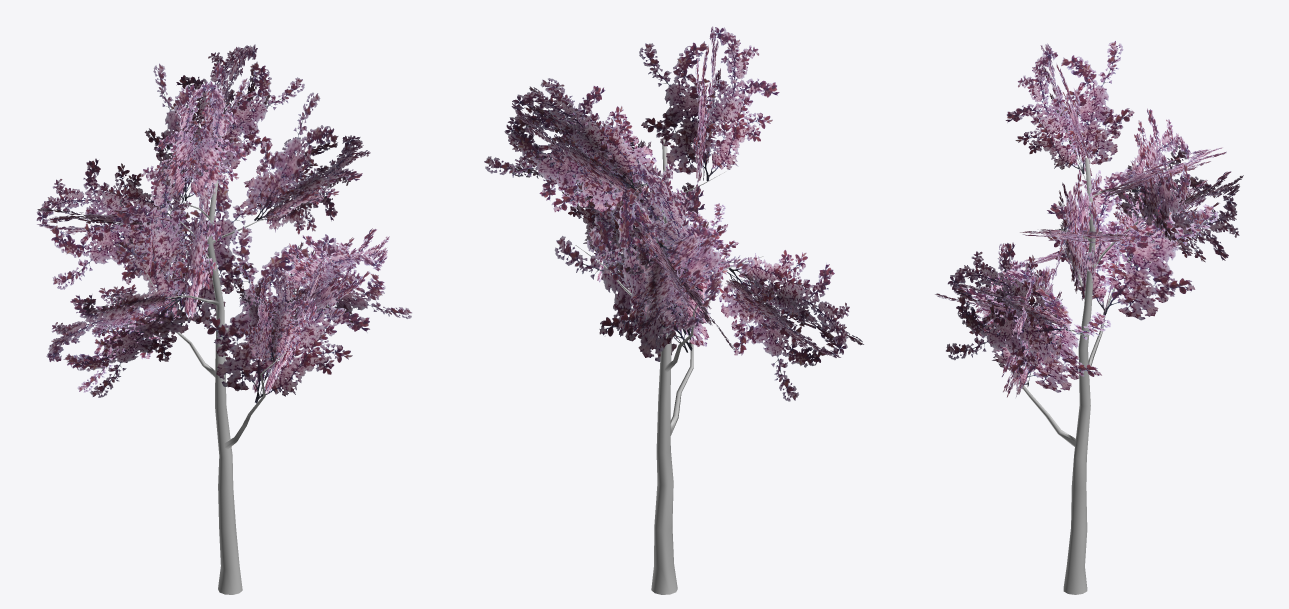
The model's file is TreeWaxCherry-red4-mobile.fbx.
3 renders of one model, left to right at view 1: azimuth 30°, elevation 25°; view 2: azimuth 150°, elevation 25°; view 3: azimuth 270°, elevation 25°, orthographic. The views are drawn at different scales.
Parts seen in each view (by area): view 1: TreeWaxCherry-red4-mobile_LOD0; view 2: TreeWaxCherry-red4-mobile_LOD0; view 3: TreeWaxCherry-red4-mobile_LOD0.
Boxes of the visible parts, <box> form: TreeWaxCherry-red4-mobile_LOD0: <box>36,44,411,594</box>; TreeWaxCherry-red4-mobile_LOD0: <box>484,26,863,594</box>; TreeWaxCherry-red4-mobile_LOD0: <box>935,41,1243,594</box>.
Size of what is drawn, in the model's own units: 253 by 370 by 222.
